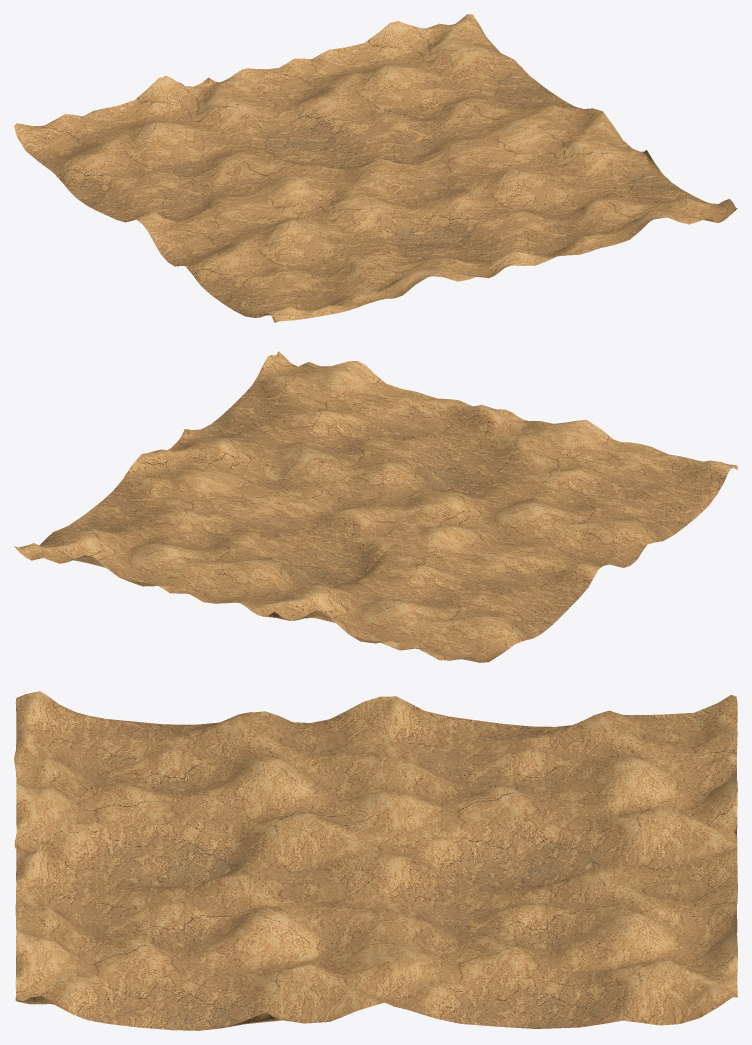
File: sand_plane_rough.fbx
3 renders of one model, top to bottom at view 1: azimuth 30°, elevation 25°; view 2: azimuth 150°, elevation 25°; view 3: azimuth 270°, elevation 25°, orthographic. The views are drawn at different scales.
Visible parts, largest first — view 1: d_plane:Mesh; view 2: d_plane:Mesh; view 3: d_plane:Mesh.
Part boxes in pixels (bbox=[...]): d_plane:Mesh: bbox=[14, 14, 737, 322]; d_plane:Mesh: bbox=[14, 351, 737, 662]; d_plane:Mesh: bbox=[14, 691, 737, 1030].
Bounding box in the file's own units: 400 × 31.45 × 401.
